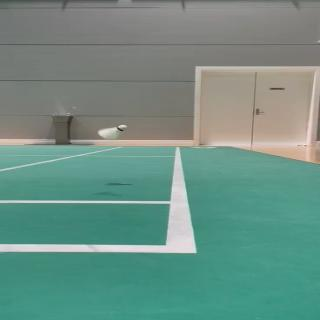Shuttle: (98, 125, 128, 141)
